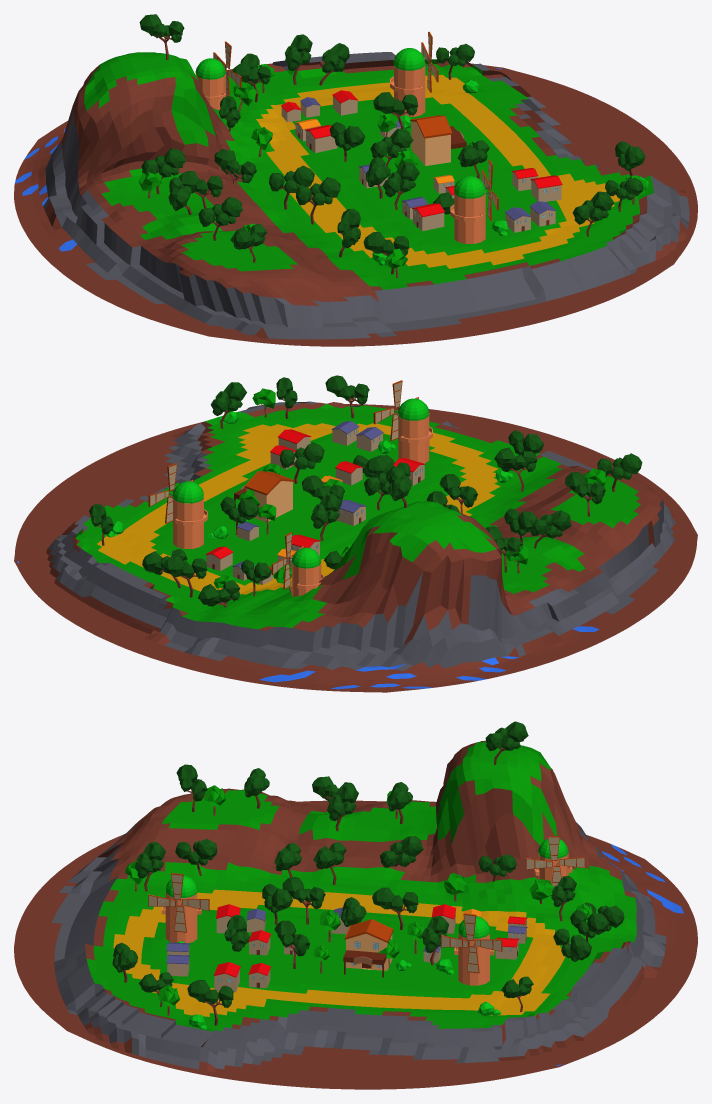
The model's file is foosha.gltf.
3 views of the same model, one above another, from view 1: azimuth 30°, elevation 25°; view 2: azimuth 150°, elevation 25°; view 3: azimuth 270°, elevation 25° (orthographic). The views are drawn at different scales.
Parts seen in each view (by area): view 1: Cube, celeiro/cata-vento.001, celeiro/cata-vento, partys-bar, celeiro/cata-vento.002, arvore complexa.018, arvore complexa.023, arvore complexa.012, arvore complexa.020, arvore complexa.008, arvore complexa.009, arvore complexa.005 (+23 smaller); view 2: Cube, celeiro/cata-vento, celeiro/cata-vento.001, celeiro/cata-vento.002, partys-bar, arvore complexa.024, arvore complexa.017, arvore complexa.014, arvore complexa.022, arvore complexa.004, arvore complexa.016, arvore complexa.012 (+21 smaller); view 3: Cube, celeiro/cata-vento, celeiro/cata-vento.001, partys-bar, celeiro/cata-vento.002, arvore complexa.009, arvore complexa.013, arvore complexa.004, arvore complexa.011, arvore complexa.022, arvore complexa.026, arvore complexa.015 (+16 smaller).
Boxes of the visible parts, <box> form: Cube: <box>14,52,697,346</box>; celeiro/cata-vento.001: <box>450,160,498,243</box>; celeiro/cata-vento: <box>390,31,438,116</box>; partys-bar: <box>410,115,466,165</box>; celeiro/cata-vento.002: <box>195,41,241,110</box>; arvore complexa.018: <box>295,177,340,224</box>; arvore complexa.023: <box>198,197,242,240</box>; arvore complexa.012: <box>572,191,614,236</box>; arvore complexa.020: <box>269,165,314,209</box>; arvore complexa.008: <box>383,162,419,209</box>; arvore complexa.009: <box>139,14,184,60</box>; arvore complexa.005: <box>141,148,185,194</box>; Cube: <box>14,401,697,692</box>; celeiro/cata-vento: <box>148,463,207,548</box>; celeiro/cata-vento.001: <box>373,380,432,463</box>; celeiro/cata-vento.002: <box>271,532,324,596</box>; partys-bar: <box>234,471,294,522</box>; arvore complexa.024: <box>280,442,324,483</box>; arvore complexa.017: <box>530,510,571,548</box>; arvore complexa.014: <box>597,453,642,491</box>; arvore complexa.022: <box>494,447,537,491</box>; arvore complexa.004: <box>210,382,246,428</box>; arvore complexa.016: <box>163,555,207,597</box>; arvore complexa.012: <box>325,375,369,418</box>; Cube: <box>14,740,697,1089</box>; celeiro/cata-vento: <box>441,913,502,985</box>; celeiro/cata-vento.001: <box>148,873,209,943</box>; partys-bar: <box>343,919,393,977</box>; celeiro/cata-vento.002: <box>526,836,585,886</box>; arvore complexa.009: <box>485,721,528,764</box>; arvore complexa.013: <box>380,836,423,867</box>; arvore complexa.004: <box>187,980,233,1025</box>; arvore complexa.011: <box>372,887,418,929</box>; arvore complexa.022: <box>175,838,217,875</box>; arvore complexa.026: <box>327,784,358,831</box>; arvore complexa.015: <box>282,877,325,924</box>.
Size of the model in its own units: 36.8 by 9.64 by 36.8.
Materials: 8 (8 with a texture image).
